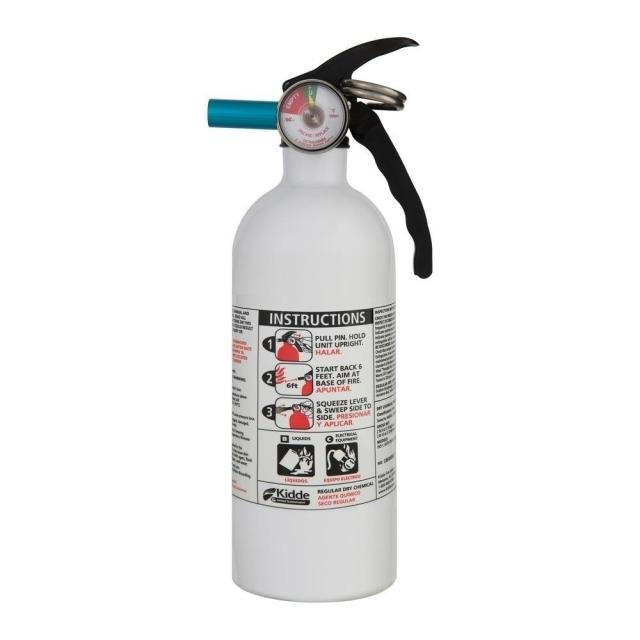fire_extinguisher: (199, 32, 437, 607)
